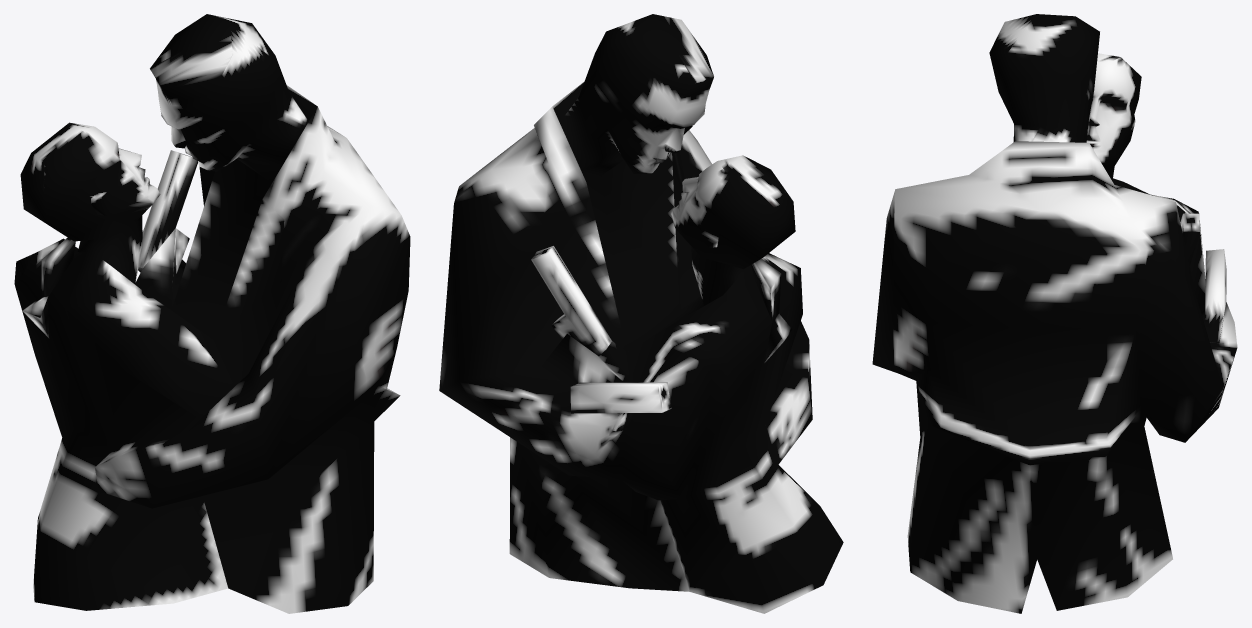
File: del.ico.obj
3 views of the same model, side by side, from view 1: azimuth 30°, elevation 25°; view 2: azimuth 150°, elevation 25°; view 3: azimuth 270°, elevation 25° (orthographic). The views are drawn at different scales.
Size of the model in its own units: 2.32 by 3.71 by 2.27.
1 material, 1 textured.
